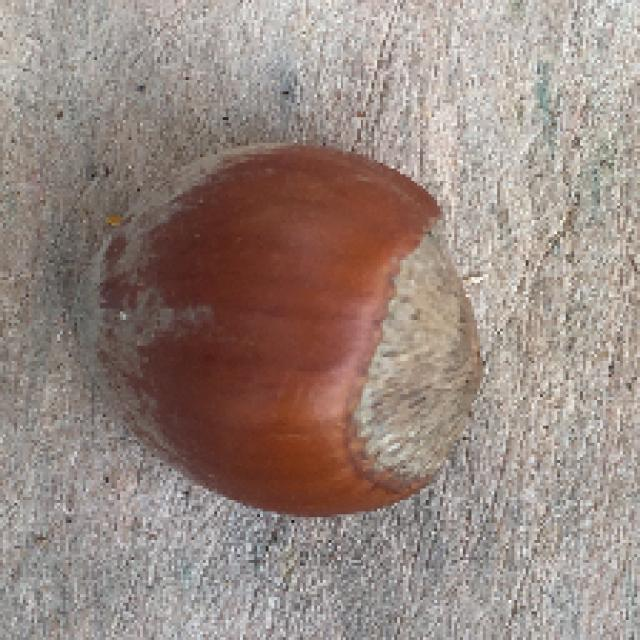QualityHazelnut: (72, 141, 491, 523)
